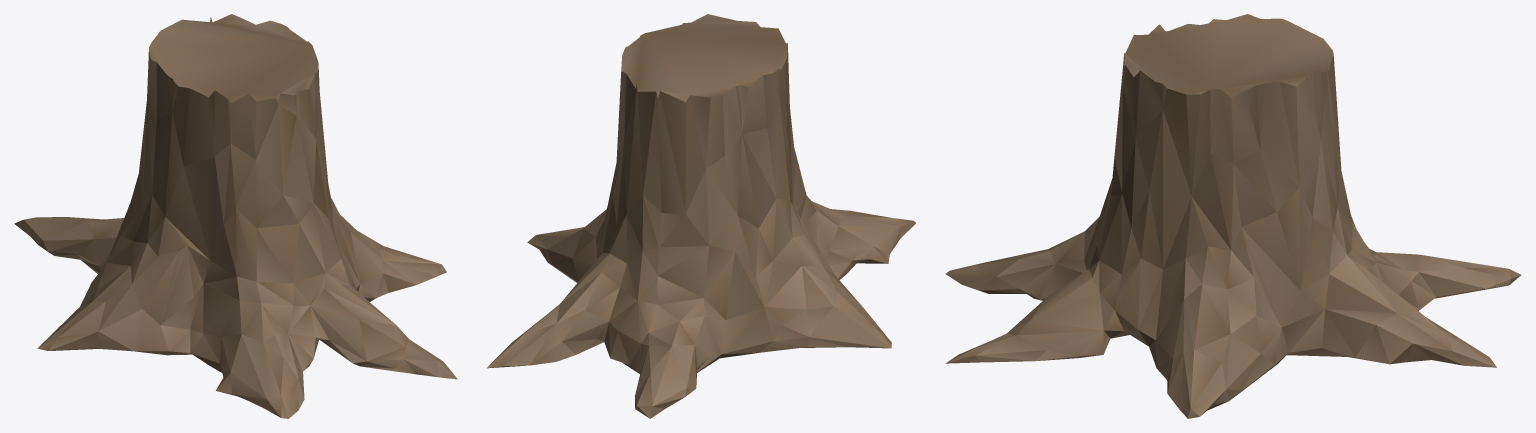
File: beech_stump.glb
3 views of the same model, side by side, from view 1: azimuth 30°, elevation 25°; view 2: azimuth 150°, elevation 25°; view 3: azimuth 270°, elevation 25° (orthographic). The views are drawn at different scales.
Visible parts, largest first — view 1: Stump; view 2: Stump; view 3: Stump.
Boxes of the visible parts, left/top/right/bottom form: Stump: left=14, top=14, right=457, bottom=418; Stump: left=487, top=14, right=915, bottom=418; Stump: left=945, top=14, right=1521, bottom=418.
Bounding box in the file's own units: 1.32 × 0.8243 × 1.59.
